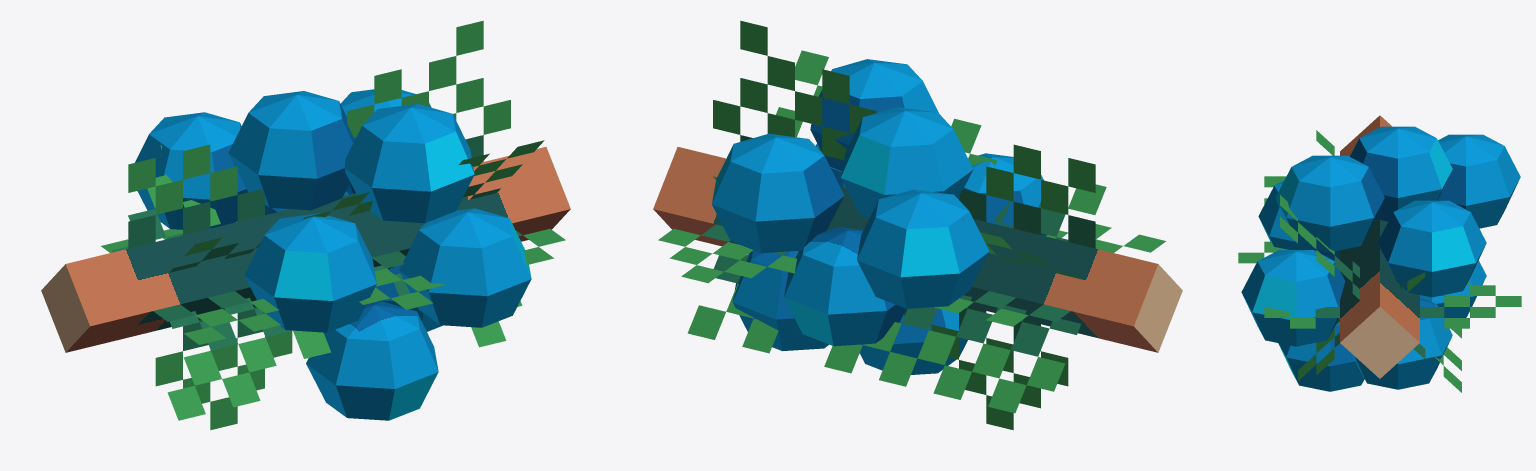
The model's file is juniper.fbx.
3 renders of one model, left to right at view 1: azimuth 30°, elevation 25°; view 2: azimuth 150°, elevation 25°; view 3: azimuth 270°, elevation 25°, orthographic. The views are drawn at different scales.
Visible parts, largest first — view 1: opaque, juniper; view 2: opaque, juniper; view 3: opaque, juniper.
Boxes of the visible parts, left/top/right/bottom form: opaque: left=41, top=89, right=570, bottom=420; juniper: left=101, top=20, right=565, bottom=430; opaque: left=653, top=59, right=1182, bottom=374; juniper: left=658, top=20, right=1166, bottom=430; opaque: left=1241, top=115, right=1520, bottom=391; juniper: left=1238, top=130, right=1521, bottom=392.
Size of the model in its own units: 110 by 75 by 68.75.
1 material, 1 textured.
